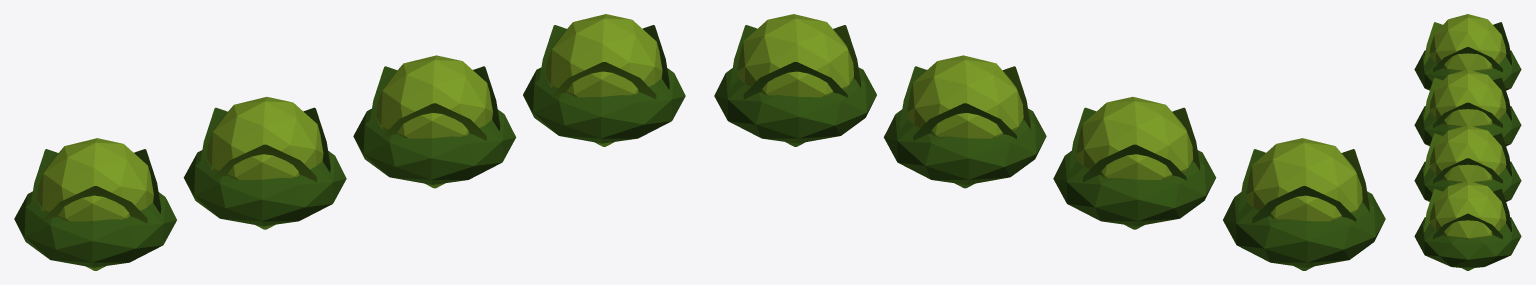
The model's file is pile-lettuce-4.obj.
3 views of the same model, side by side, from view 1: azimuth 30°, elevation 25°; view 2: azimuth 150°, elevation 25°; view 3: azimuth 270°, elevation 25° (orthographic). The views are drawn at different scales.
Parts seen in each view (by area): view 1: pile-lettuce-4; view 2: pile-lettuce-4; view 3: pile-lettuce-4.
Part boxes in pixels (<box>): pile-lettuce-4: <box>14,14,685,270</box>; pile-lettuce-4: <box>714,14,1385,270</box>; pile-lettuce-4: <box>1414,14,1521,270</box>.
Bounding box in the file's own units: 0.9216 × 0.1512 × 0.1953.
1 material, 1 textured.
